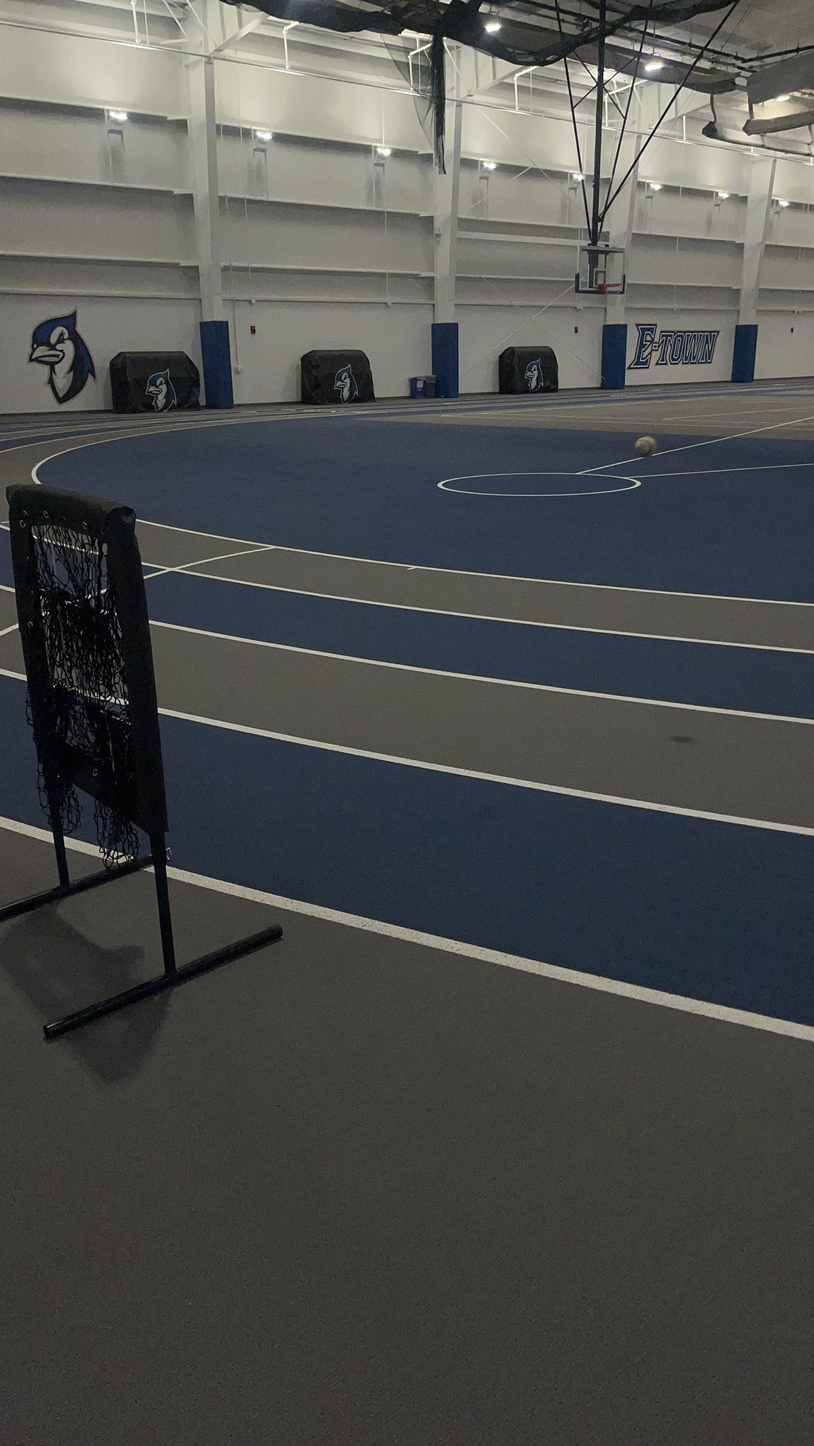Baseball: (631, 431, 661, 460)
